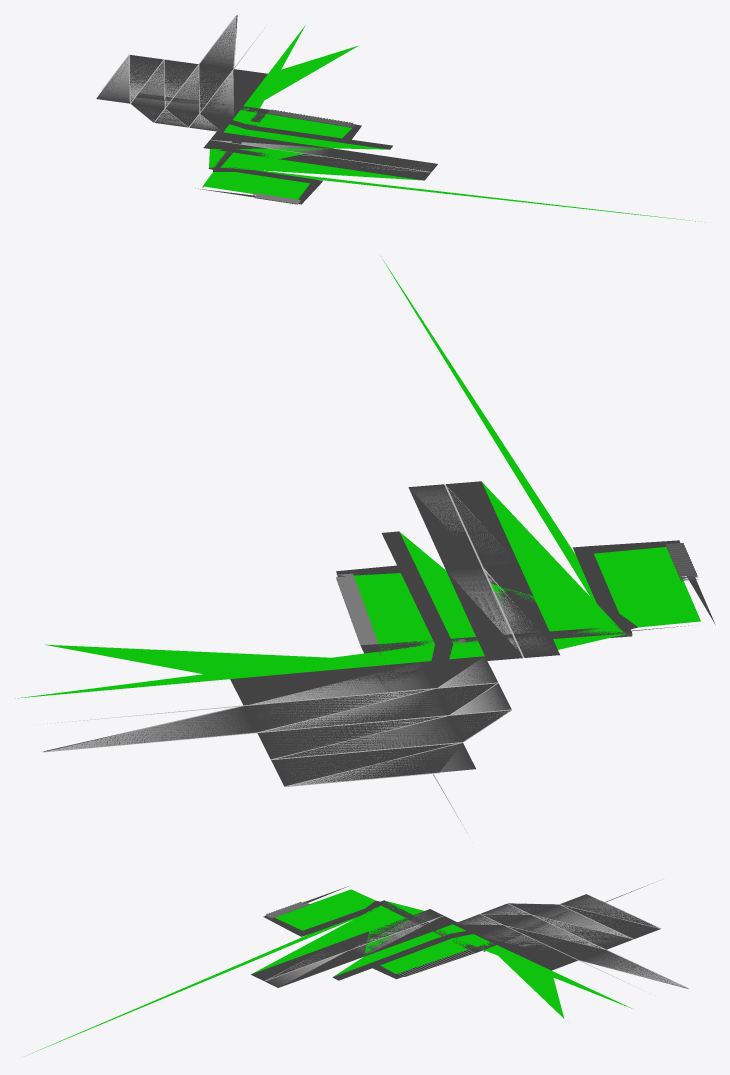
3 views of the same model, one above another, from view 1: azimuth 30°, elevation 25°; view 2: azimuth 150°, elevation 25°; view 3: azimuth 270°, elevation 25° (orthographic). The views are drawn at different scales.
Size of the model in its own units: 43.17 by 0.3 by 68.21.
